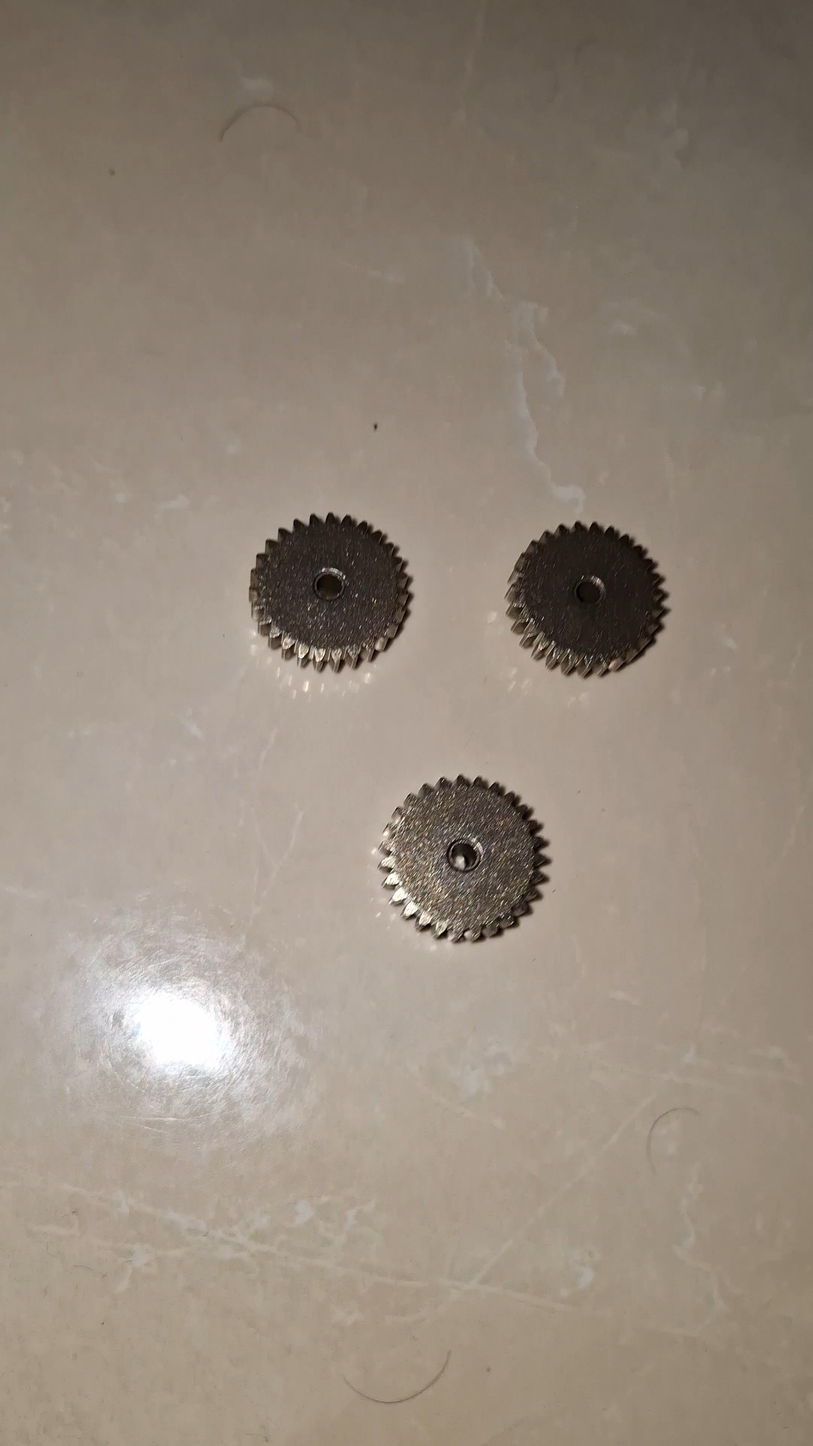spur gear: (380, 776, 546, 940), (249, 513, 408, 669), (507, 522, 665, 675)
